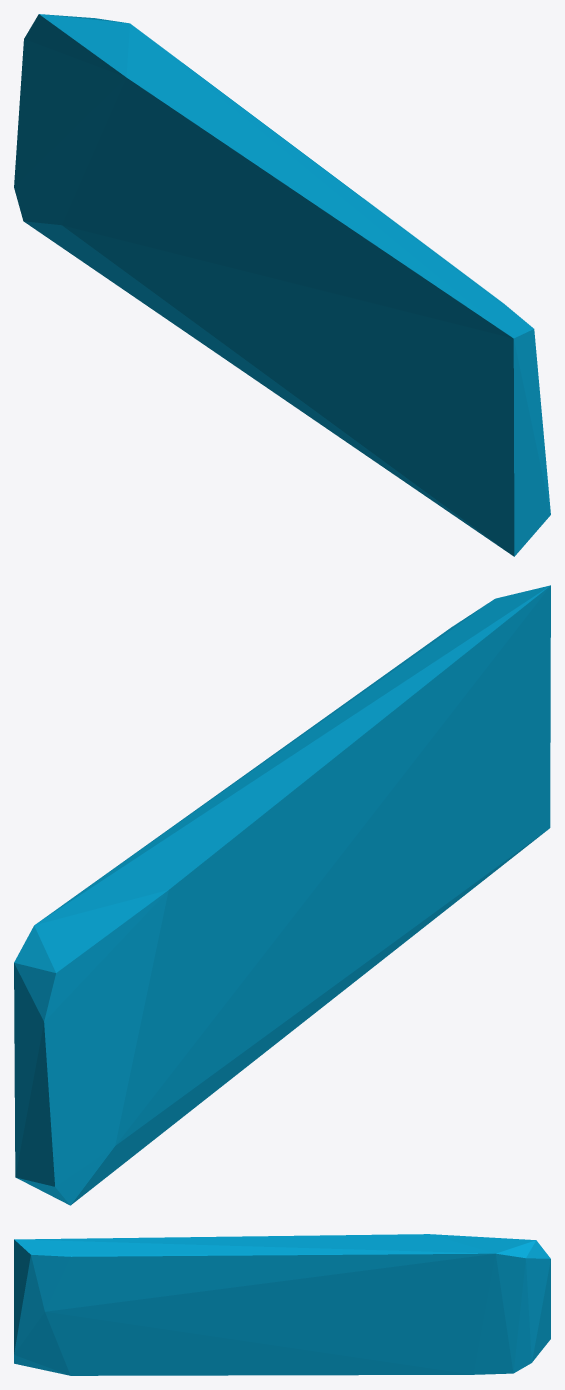
Rendered from torso_convex_piece_015.obj.
The picture shows the model from 3 angles, top to bottom: view 1: azimuth 30°, elevation 25°; view 2: azimuth 150°, elevation 25°; view 3: azimuth 270°, elevation 25°; orthographic projection. The views are drawn at different scales.
Bounding box in the file's own units: 0.0418 × 0.1149 × 0.4488.
